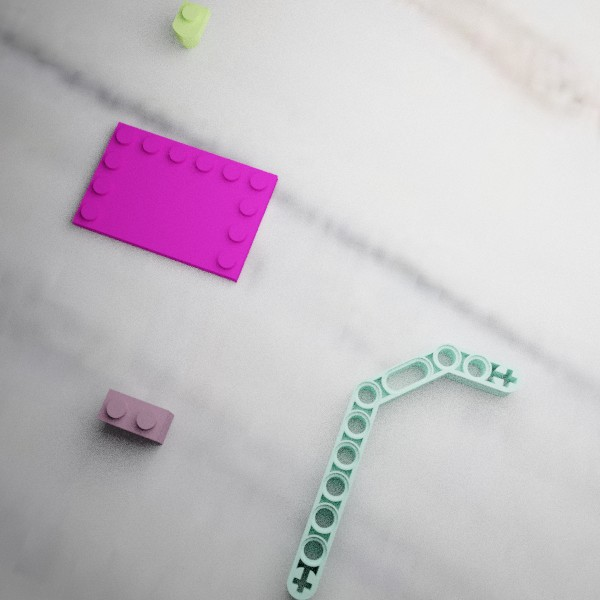lego: (287, 342, 522, 600), (72, 121, 278, 282), (96, 388, 174, 444), (172, 0, 210, 48)
